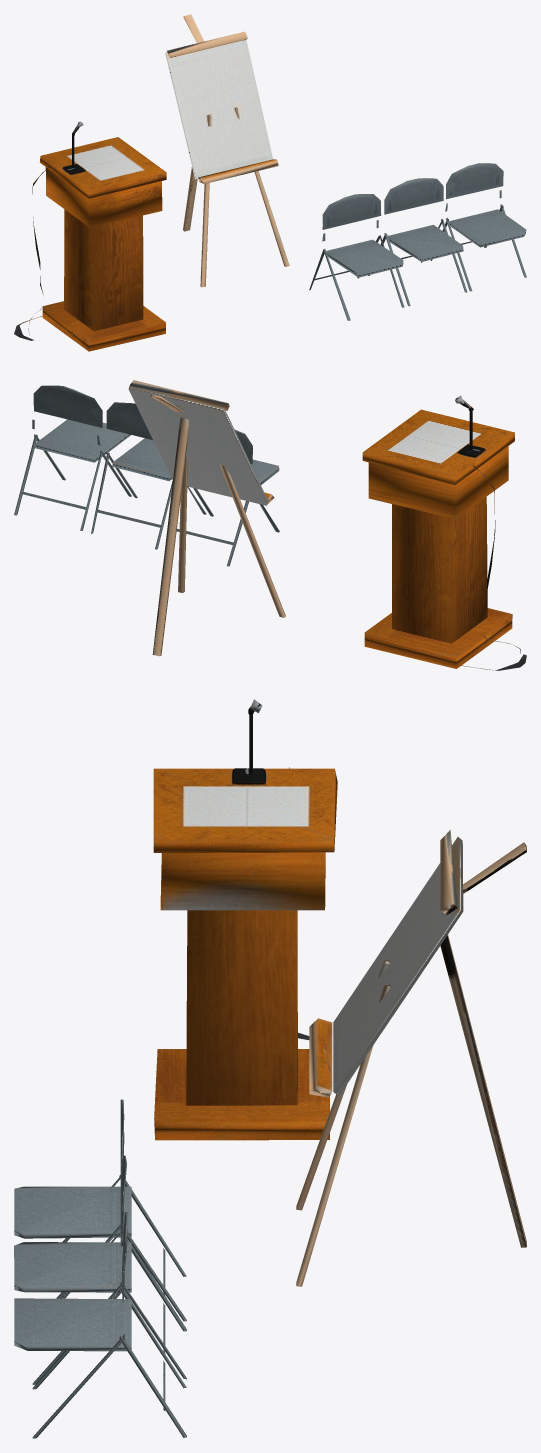
Rendered from lecture_podium.glb.
3 renders of one model, top to bottom at view 1: azimuth 30°, elevation 25°; view 2: azimuth 150°, elevation 25°; view 3: azimuth 270°, elevation 25°, orthographic. The views are drawn at different scales.
Bounding box in the file's own units: 2.2 × 1.02 × 1.18.
Materials: 1 (1 with a texture image).
